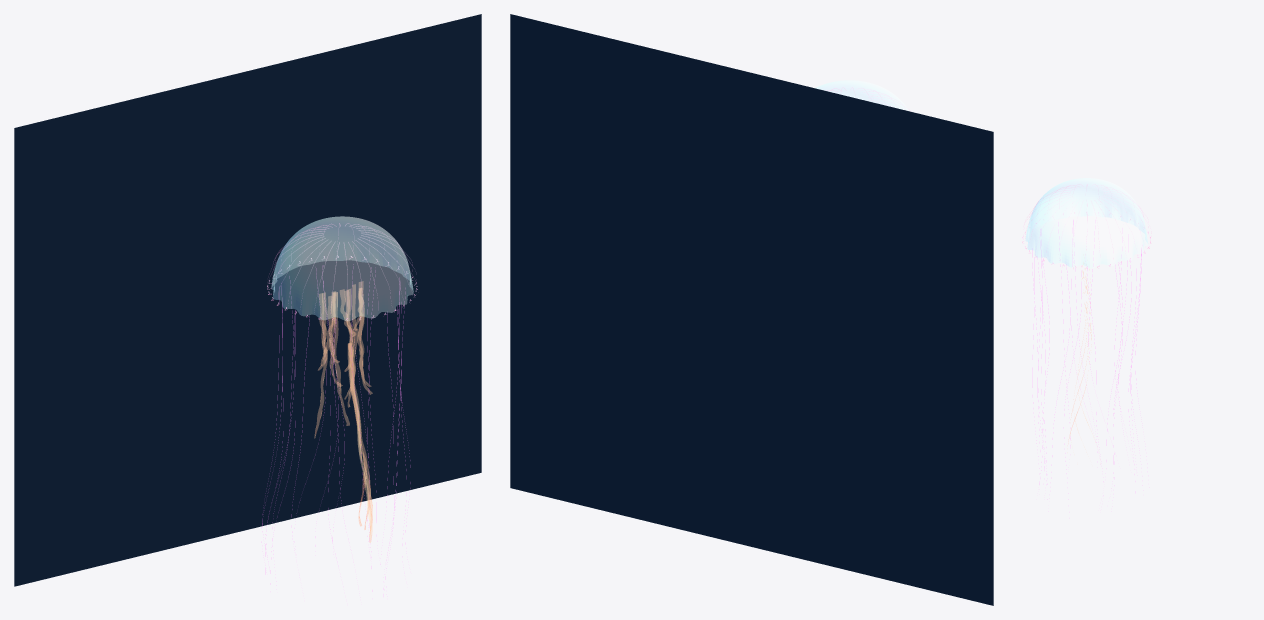
The model's file is jellyfish_candidate.glb.
3 views of the same model, side by side, from view 1: azimuth 30°, elevation 25°; view 2: azimuth 150°, elevation 25°; view 3: azimuth 270°, elevation 25° (orthographic). The views are drawn at different scales.
Visible parts, largest first — view 1: reference_jellyfish_dark_water_backdrop, reference_jellyfish_bell, reference_jellyfish_oral_arms, reference_jellyfish_long_tentacles, reference_jellyfish_trailing_oral_tail; view 2: reference_jellyfish_dark_water_backdrop, reference_jellyfish_bell; view 3: reference_jellyfish_bell, reference_jellyfish_long_tentacles.
Boxes of the visible parts, bbox=[...] form: reference_jellyfish_dark_water_backdrop: bbox=[14, 14, 481, 586]; reference_jellyfish_bell: bbox=[271, 216, 413, 320]; reference_jellyfish_oral_arms: bbox=[314, 281, 372, 438]; reference_jellyfish_long_tentacles: bbox=[261, 281, 410, 596]; reference_jellyfish_trailing_oral_tail: bbox=[348, 343, 372, 542]; reference_jellyfish_dark_water_backdrop: bbox=[510, 14, 993, 605]; reference_jellyfish_bell: bbox=[815, 80, 908, 110]; reference_jellyfish_bell: bbox=[1025, 178, 1147, 267]; reference_jellyfish_long_tentacles: bbox=[1032, 220, 1142, 499].
Size of the model in its own units: 8 by 7.5 by 3.91.
